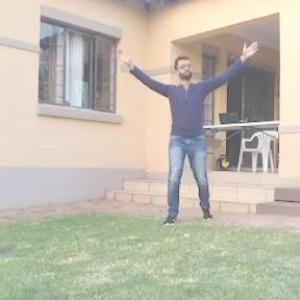takeoff: (96, 36, 248, 229)
